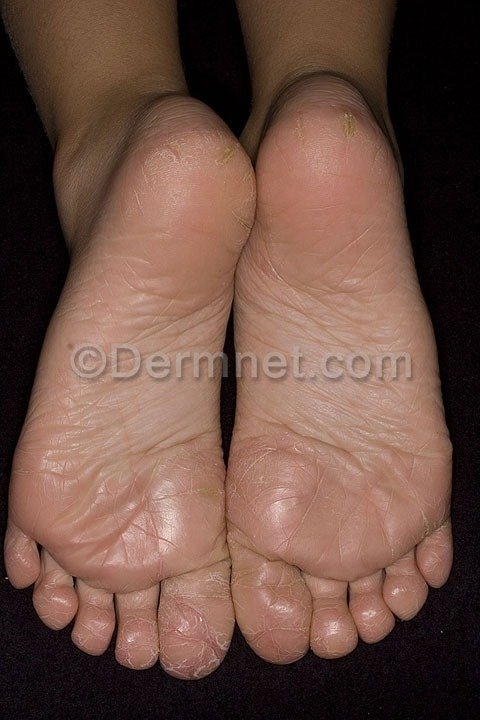Eczema: (244, 515, 457, 661), (30, 568, 234, 684), (130, 124, 256, 205), (233, 439, 323, 530), (287, 93, 399, 166), (140, 450, 231, 520)
